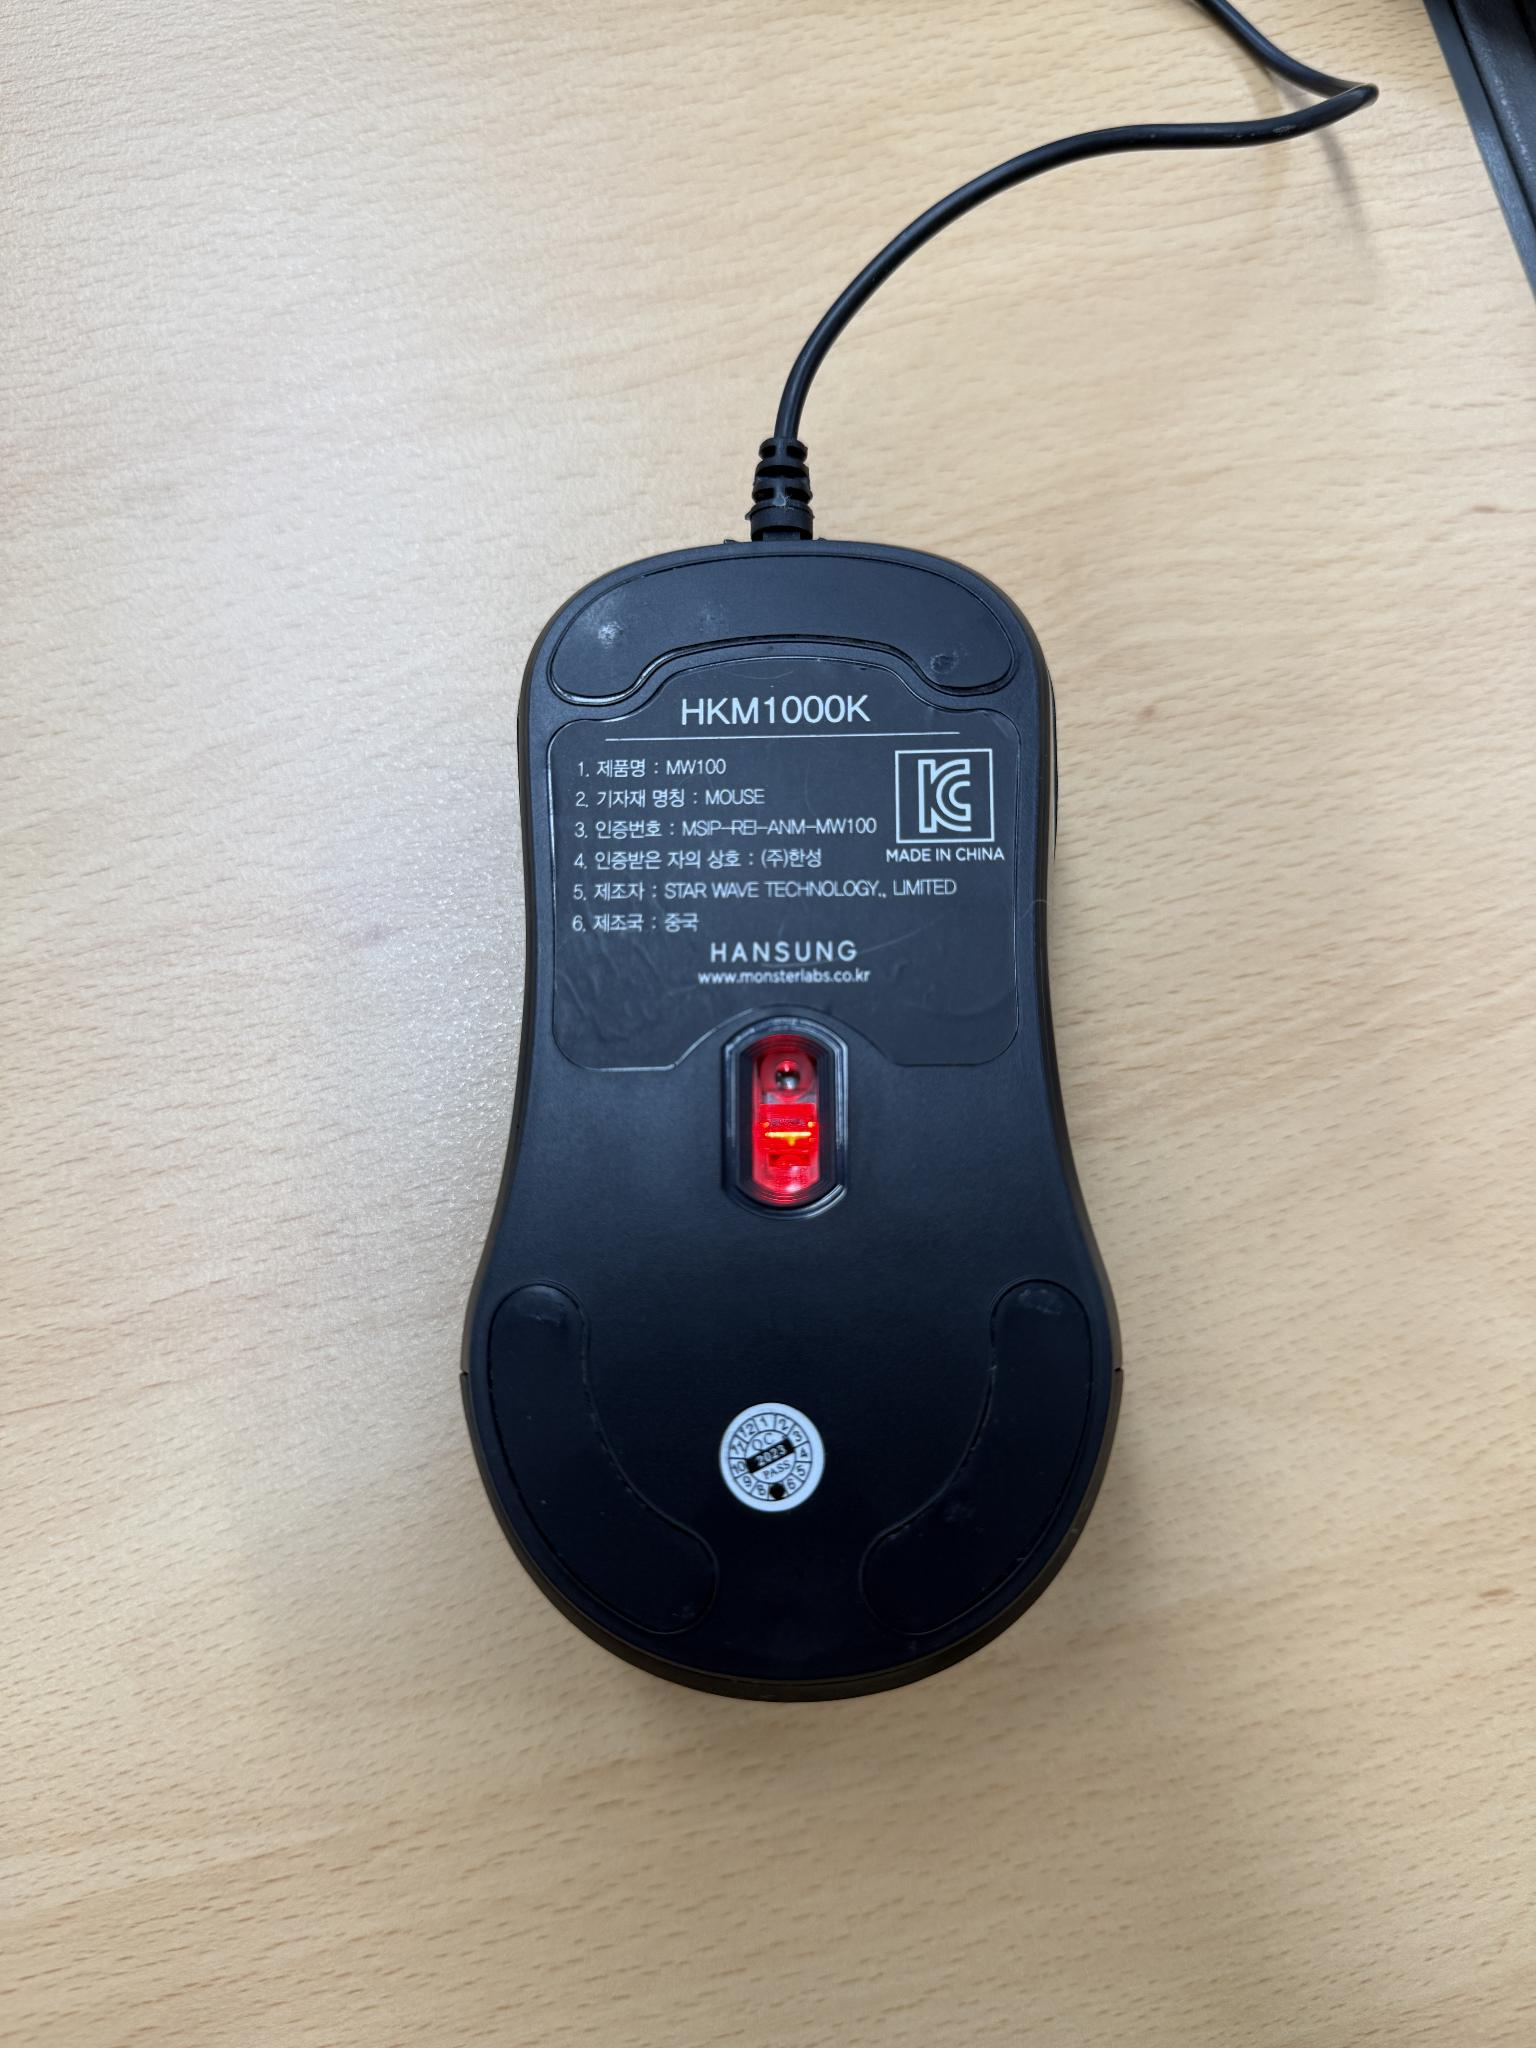back: (455, 519, 1112, 1711)
